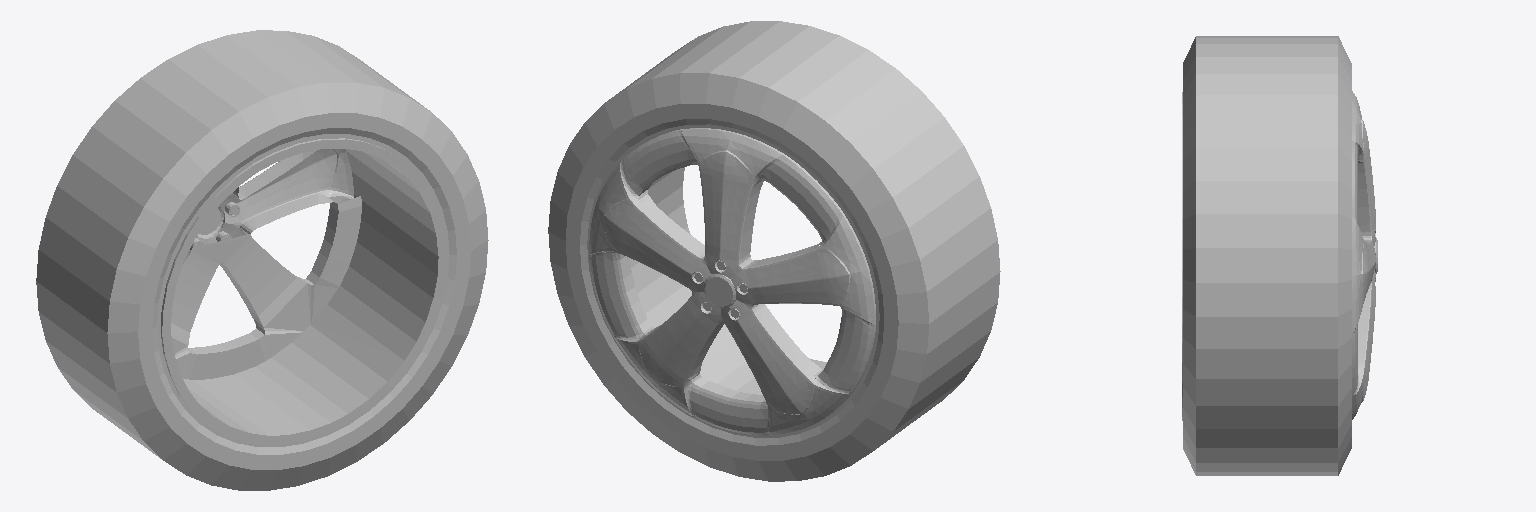
3 views of the same model, side by side, from view 1: azimuth 30°, elevation 25°; view 2: azimuth 150°, elevation 25°; view 3: azimuth 270°, elevation 25° (orthographic).
Visible parts, largest first — view 1: E233_901C_L_E233_901C_L_3_DM, E233_901C_L_1_DaS_E233_901C_L; view 2: E233_901C_L_E233_901C_L_3_DM, E233_901C_L_1_DaS_E233_901C_L, E233_901C_L_E233_901C_L_2_D; view 3: E233_901C_L_E233_901C_L_3_DM, E233_901C_L_1_DaS_E233_901C_L.
Boxes of the visible parts, x1=… form: E233_901C_L_E233_901C_L_3_DM: x1=36, y1=30, x2=488, y2=490; E233_901C_L_1_DaS_E233_901C_L: x1=161, y1=138, x2=446, y2=445; E233_901C_L_E233_901C_L_3_DM: x1=548, y1=21, x2=1000, y2=481; E233_901C_L_1_DaS_E233_901C_L: x1=589, y1=128, x2=875, y2=435; E233_901C_L_E233_901C_L_2_D: x1=704, y1=274, x2=735, y2=308; E233_901C_L_E233_901C_L_3_DM: x1=1183, y1=36, x2=1351, y2=475; E233_901C_L_1_DaS_E233_901C_L: x1=1182, y1=91, x2=1375, y2=420.
Bounding box in the file's own units: 73.2 × 73.2 × 32.49.